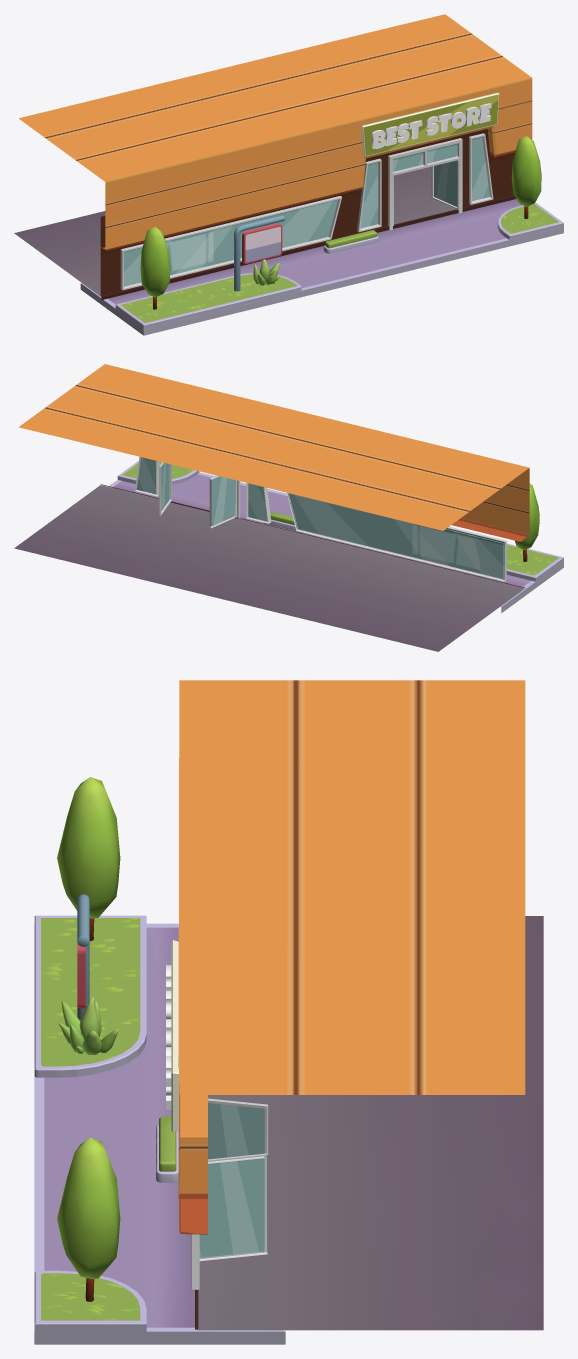
The model's file is beststore (3).fbx.
The picture shows the model from 3 angles, top to bottom: view 1: azimuth 30°, elevation 25°; view 2: azimuth 150°, elevation 25°; view 3: azimuth 270°, elevation 25°; orthographic projection. The views are drawn at different scales.
Visible parts, largest first — view 1: Cylinder; view 2: Cylinder; view 3: Cylinder.
Boxes of the visible parts, x1=… form: Cylinder: x1=14, y1=14, x2=563, y2=335; Cylinder: x1=14, y1=364, x2=563, y2=651; Cylinder: x1=34, y1=680, x2=543, y2=1344.
Size of the model in its own units: 1254 by 359 by 651.
